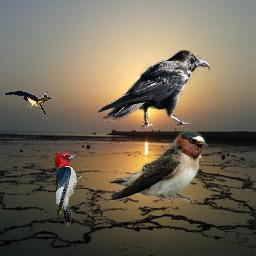Crow: (96, 49, 210, 132)
Swallow: (107, 129, 210, 205), (3, 88, 63, 119)
Woodpecker: (53, 153, 84, 229)
